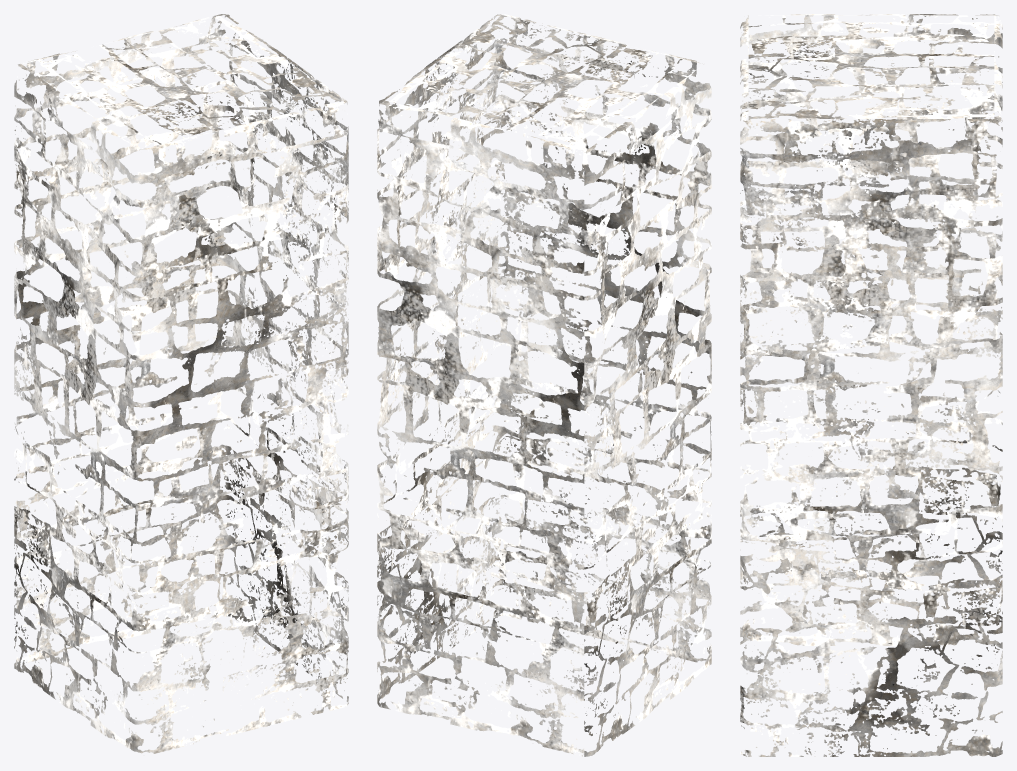
The model's file is SM_fence_03_05.fbx.
The picture shows the model from 3 angles, left to right: view 1: azimuth 30°, elevation 25°; view 2: azimuth 150°, elevation 25°; view 3: azimuth 270°, elevation 25°; orthographic projection. The views are drawn at different scales.
Parts seen in each view (by area): view 1: SM_fence_03_05_LOD0; view 2: SM_fence_03_05_LOD0; view 3: SM_fence_03_05_LOD0.
Boxes of the visible parts, x1,y1,x2,y2 form: SM_fence_03_05_LOD0: (14, 14, 348, 753); SM_fence_03_05_LOD0: (377, 14, 711, 756); SM_fence_03_05_LOD0: (740, 14, 1002, 756).
Size of the model in its own units: 75 by 75 by 200.
Materials: 1 (1 with a texture image).
